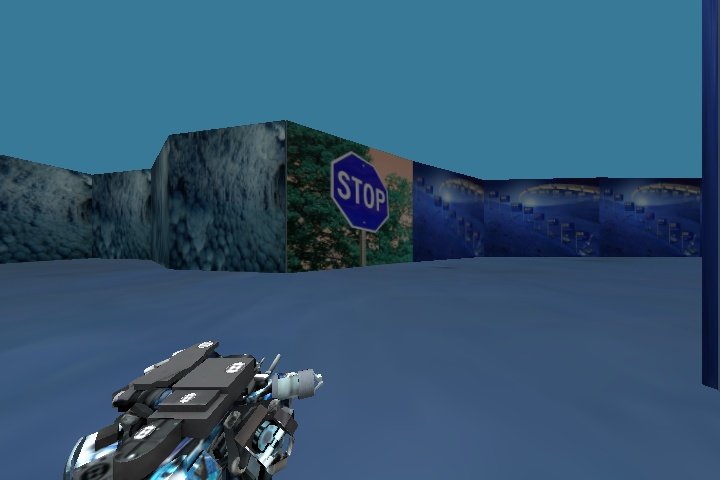stop_sign: (319, 142, 394, 235)
